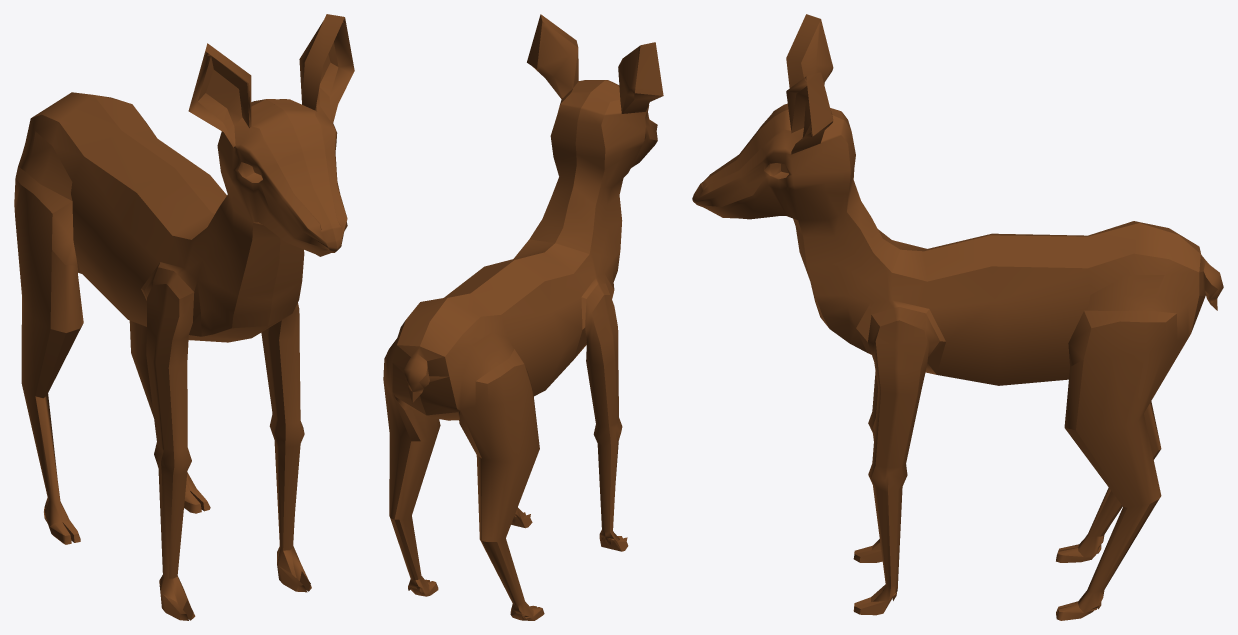
Rendered from Test_Deer2.dae.
3 views of the same model, side by side, from view 1: azimuth 30°, elevation 25°; view 2: azimuth 150°, elevation 25°; view 3: azimuth 270°, elevation 25° (orthographic). The views are drawn at different scales.
Visible parts, largest first — view 1: polySurface1; view 2: polySurface1; view 3: polySurface1.
Part boxes in pixels (x1,y1,x2,y2): polySurface1: [14, 14, 354, 620]; polySurface1: [383, 14, 663, 620]; polySurface1: [692, 14, 1223, 620].
Size of the model in its own units: 3.93 by 13.41 by 11.91.
